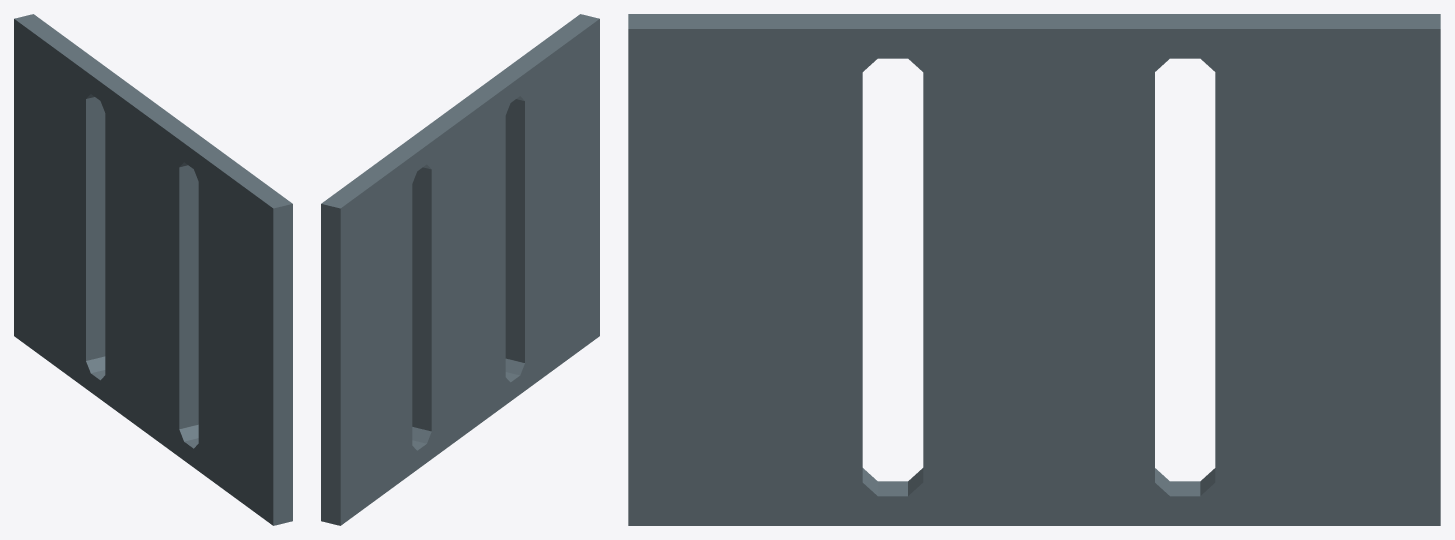
Rendered from plaka 6.fbx.
The picture shows the model from 3 angles, left to right: view 1: azimuth 30°, elevation 25°; view 2: azimuth 150°, elevation 25°; view 3: azimuth 270°, elevation 25°; orthographic projection. The views are drawn at different scales.
Visible parts, largest first — view 1: pCube410; view 2: pCube410; view 3: pCube410.
Boxes of the visible parts, box(x1,y1,x2,y2) form: pCube410: box(14, 14, 292, 525); pCube410: box(321, 14, 599, 525); pCube410: box(628, 14, 1440, 525).
Size of the model in its own units: 8.92 by 139 by 206.
